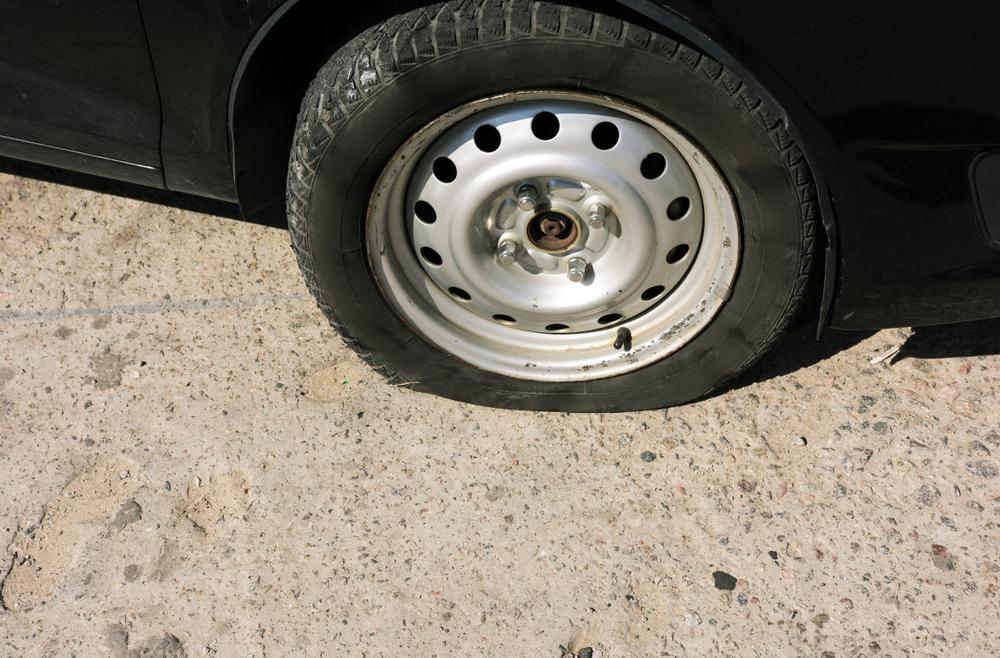tire flat: (287, 0, 814, 412)
